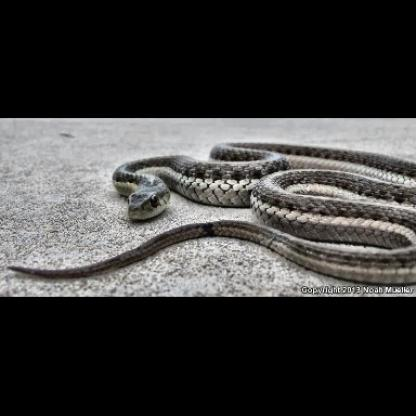Snake: (13, 138, 416, 285)
